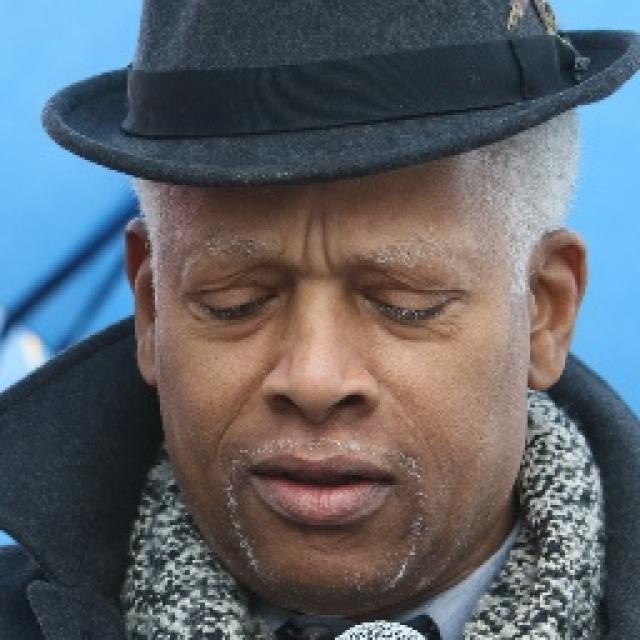earlobe: (528, 331, 572, 392), (136, 328, 157, 386)
eye: (363, 287, 465, 325), (185, 290, 279, 316)
nose: (262, 396, 373, 445)
wholeear: (528, 227, 588, 392), (122, 218, 159, 387)
